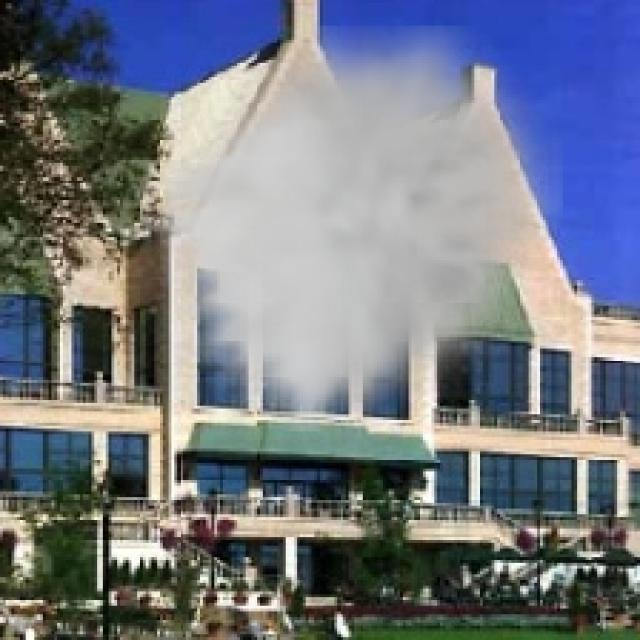Smoke: (137, 26, 563, 432)
